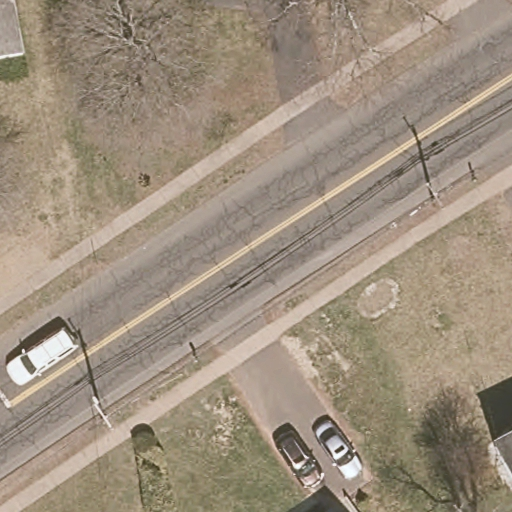DT: (90, 395, 112, 428), (425, 181, 442, 206)
